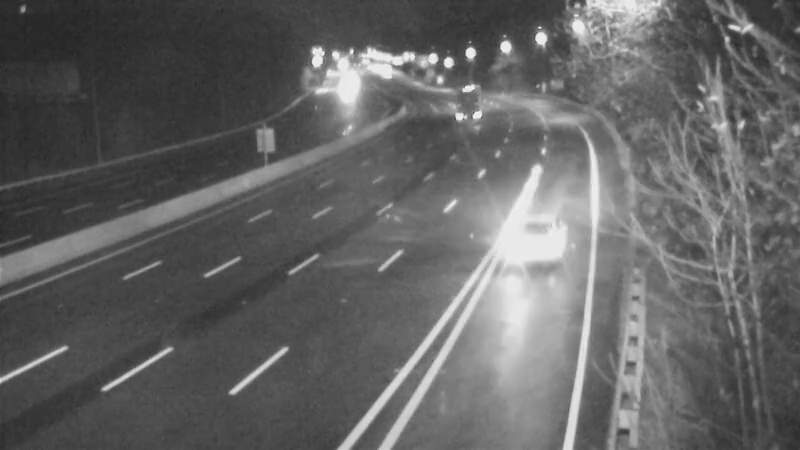vehicle: (507, 172, 587, 252), (442, 66, 492, 116), (324, 63, 374, 113)
